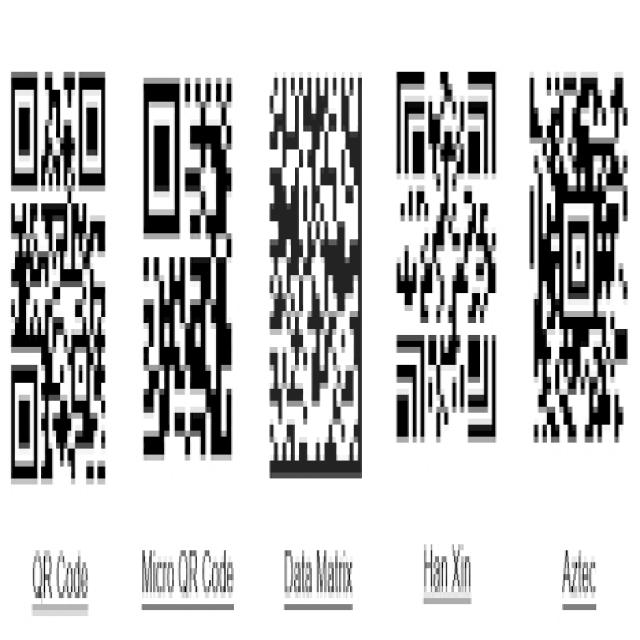DataMatrix: (262, 48, 368, 508)
